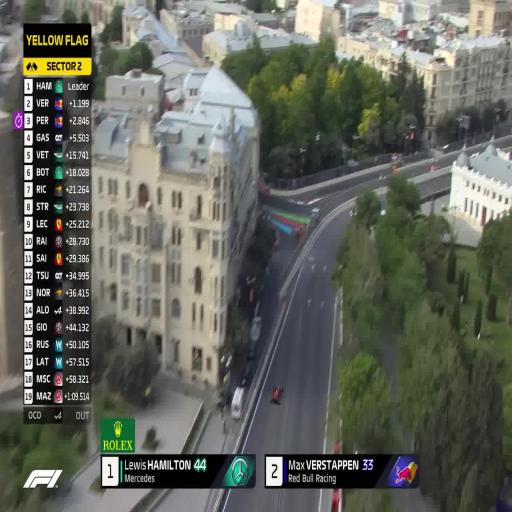f1_car: (269, 377, 287, 413)
